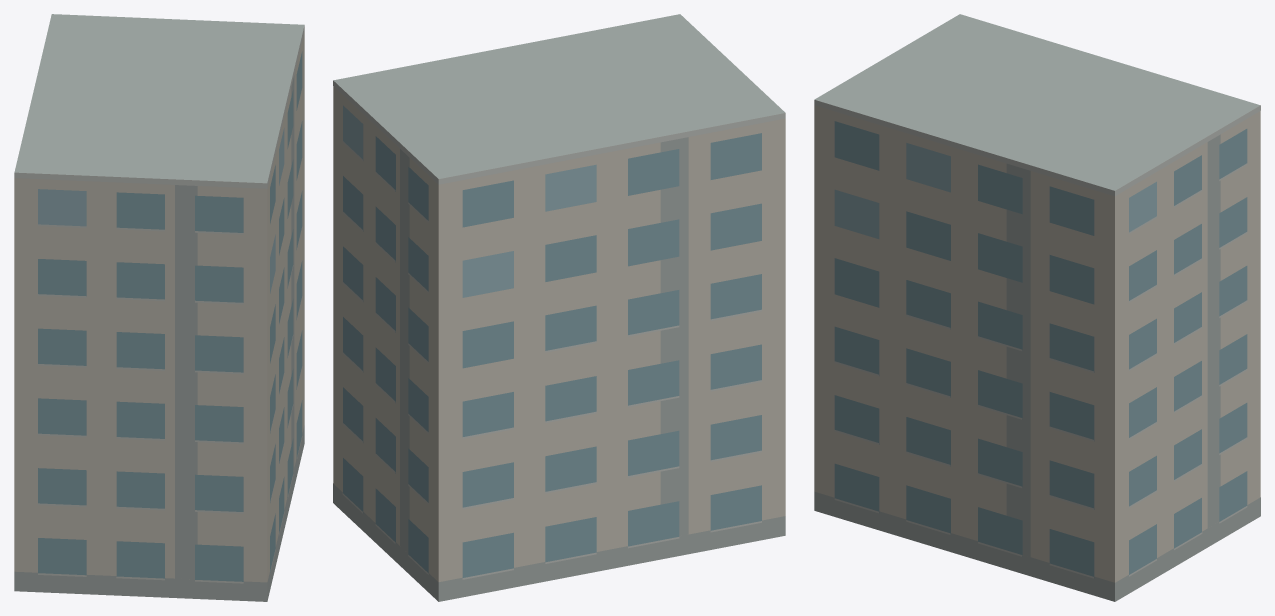
Rendered from survey-upis-32537706.glb.
3 renders of one model, left to right at view 1: azimuth 30°, elevation 25°; view 2: azimuth 150°, elevation 25°; view 3: azimuth 270°, elevation 25°, orthographic. The views are drawn at different scales.
Parts seen in each view (by area): view 1: survey-upis-32537706.tmp; view 2: survey-upis-32537706.tmp; view 3: survey-upis-32537706.tmp.
Boxes of the visible parts, x1=… form: survey-upis-32537706.tmp: x1=14, y1=14, x2=304, y2=601; survey-upis-32537706.tmp: x1=333, y1=14, x2=785, y2=601; survey-upis-32537706.tmp: x1=814, y1=14, x2=1260, y2=601.
Size of the model in its own units: 16.9 by 18.3 by 18.03.
